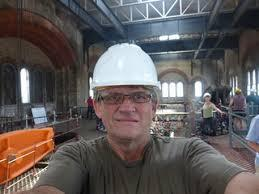helmet: (91, 43, 161, 89)
